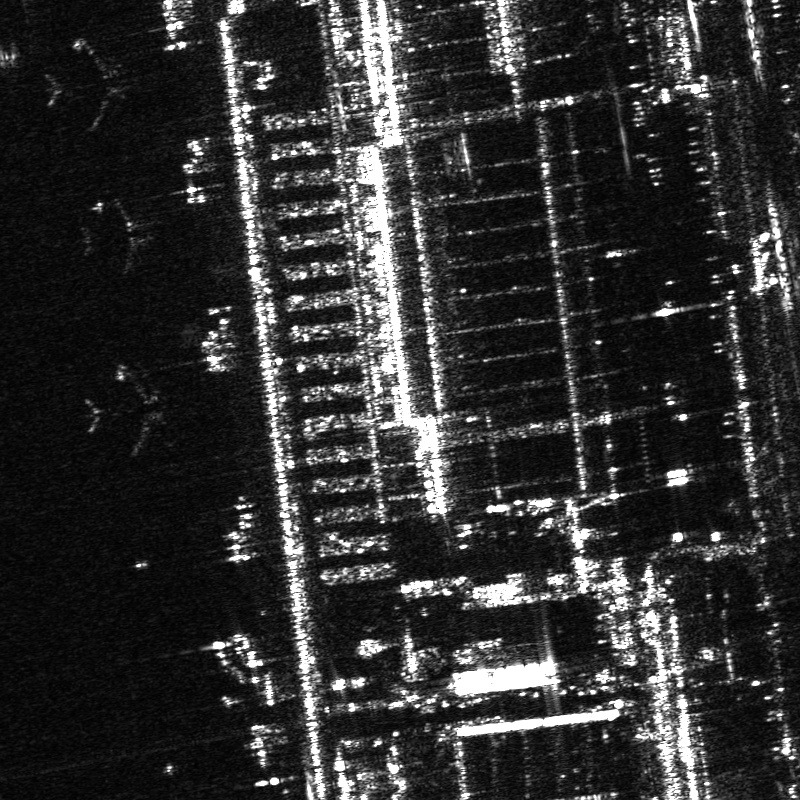Boeing787: (44, 38, 150, 131), (85, 364, 173, 448), (78, 197, 163, 280)
